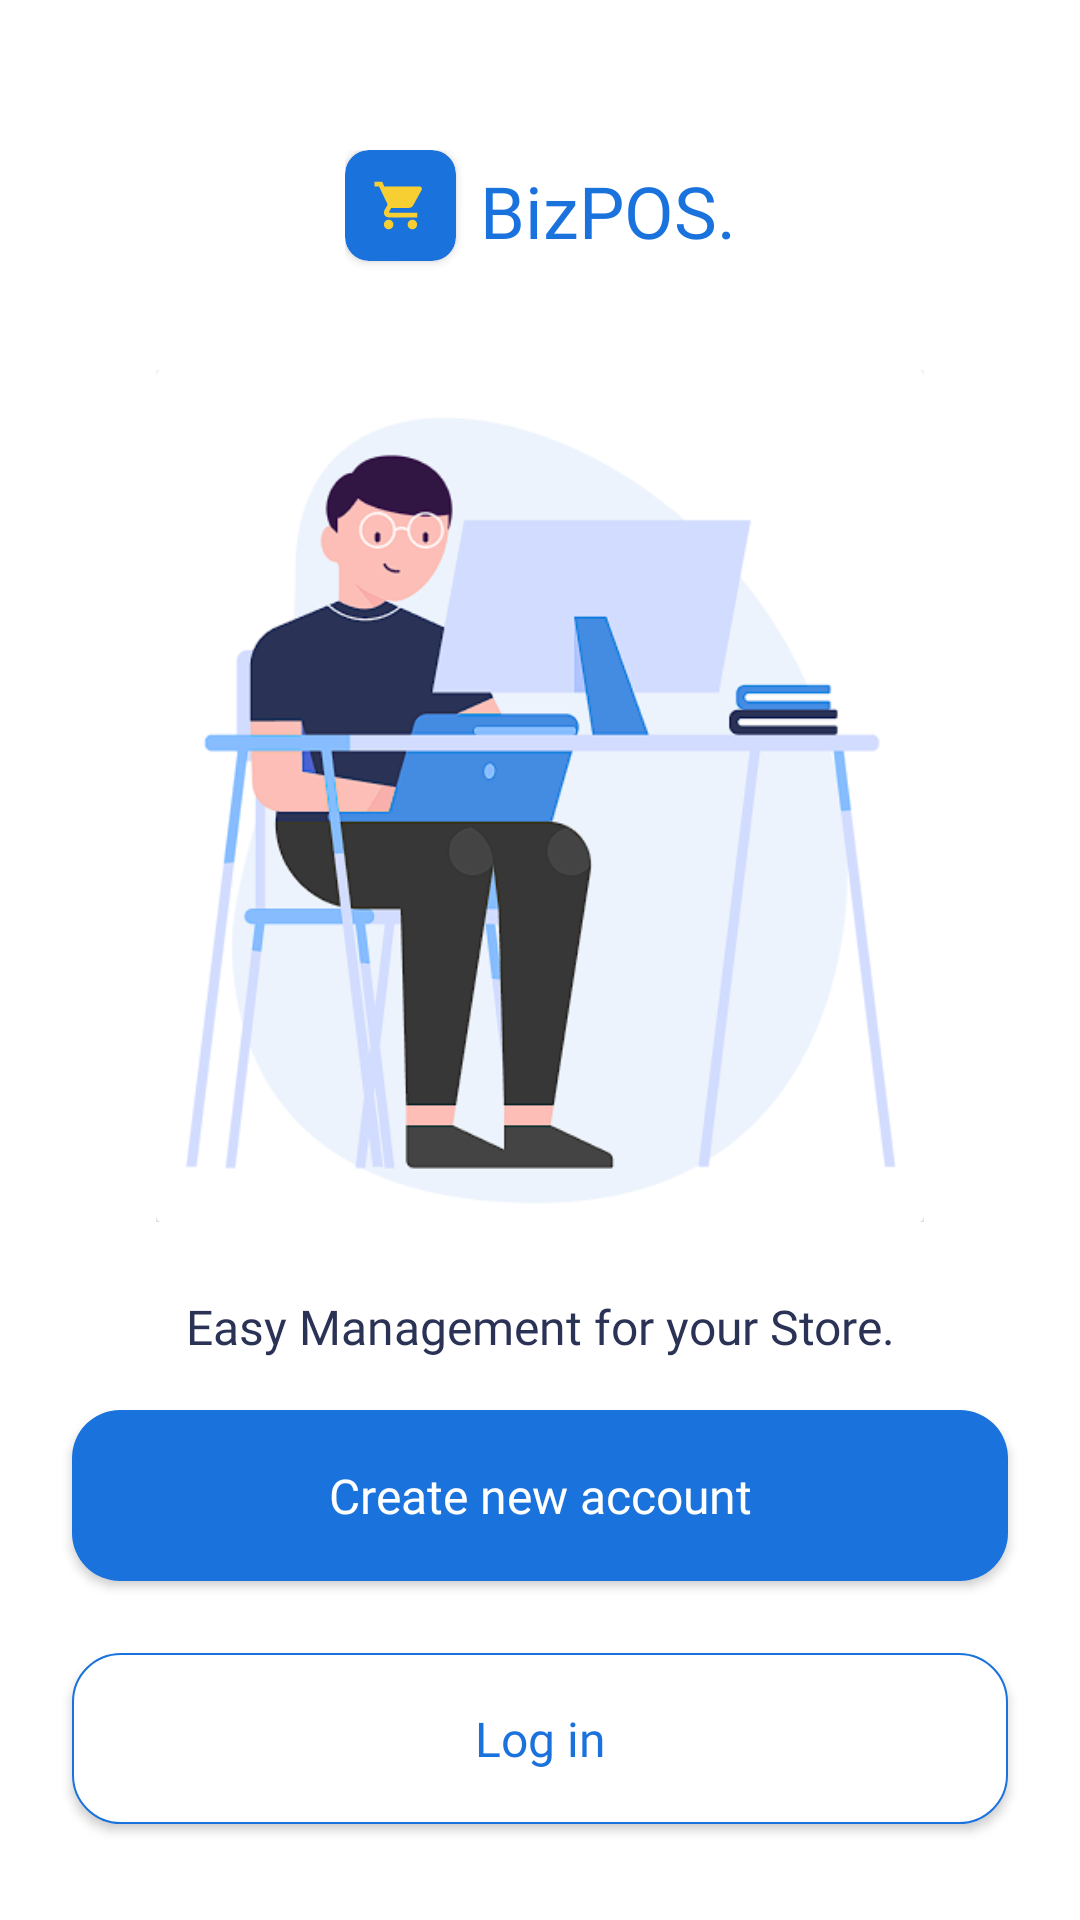

Named icons in this screenshot (1080x1920) and their bounding boxes, (x1,y1,x2,y2):
shopping cart: (374,181,422,230)
